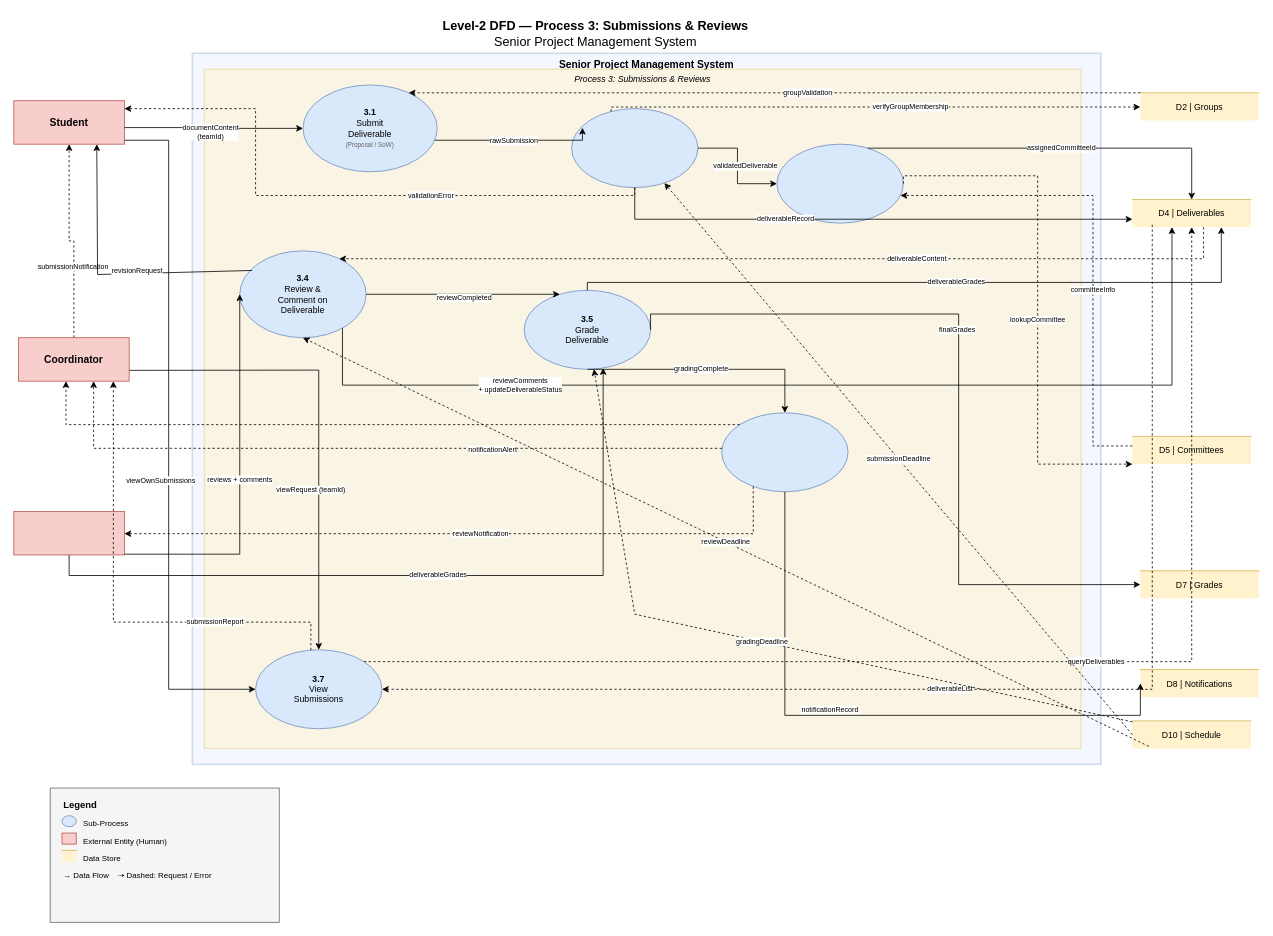
The diagram is 1273 pixels wide and 936 high, and some of its shapes have lost their labels. The centre of each missing label's shape, as x and y in pixels:
"3.2 Validate Submission" goes at point (634, 148).
"3.3 Assign Committee to Submission" goes at point (839, 183).
"3.6 Notify Submission Status" goes at point (784, 452).
"Professor / Advisor" goes at point (68, 533).
